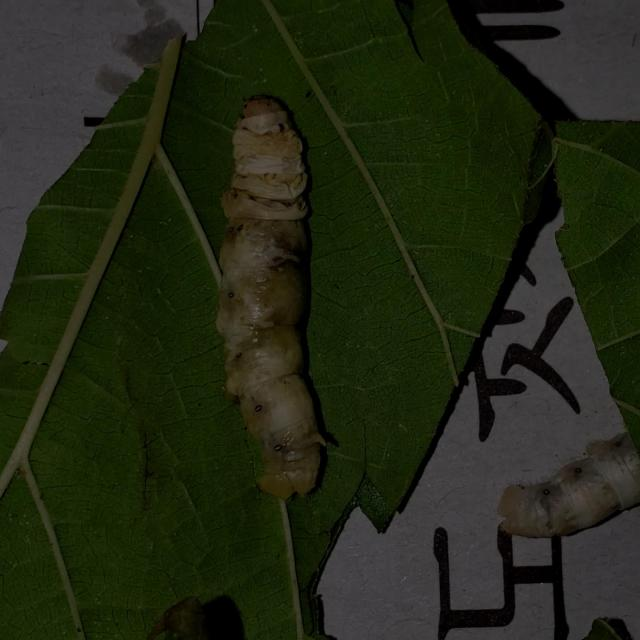Grasserie: (186, 69, 356, 528)
